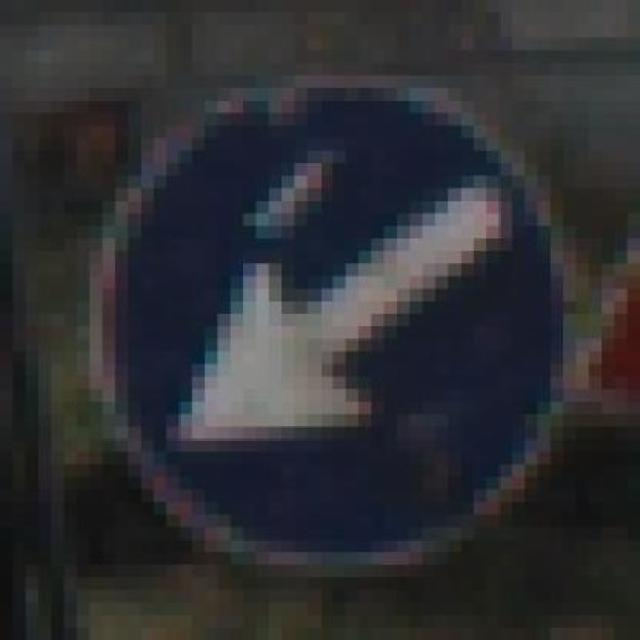Keep-Left: (89, 62, 602, 602)
